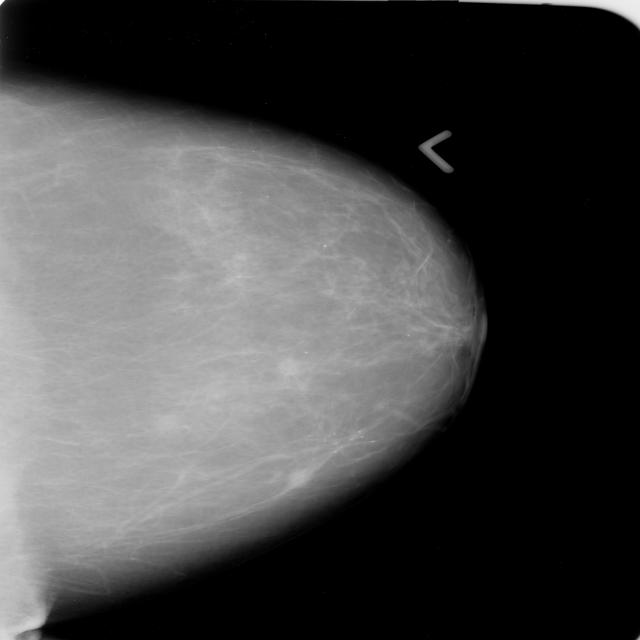normal: (0, 72, 497, 609)
